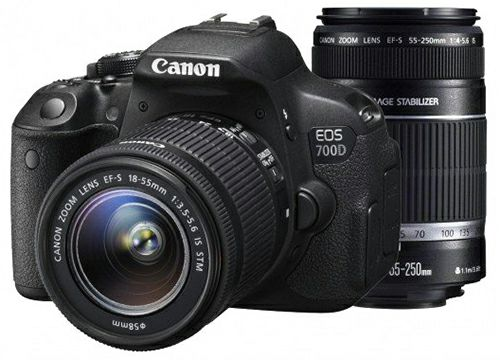kamera: (9, 11, 403, 357)
